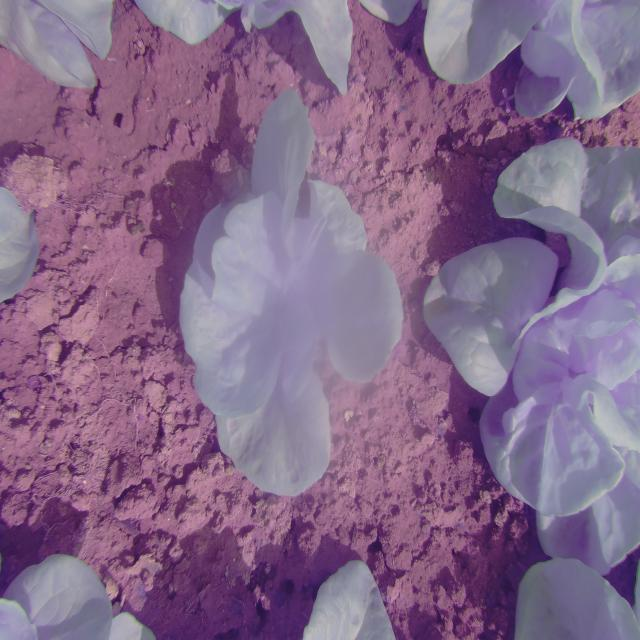vege: (182, 85, 404, 500)
